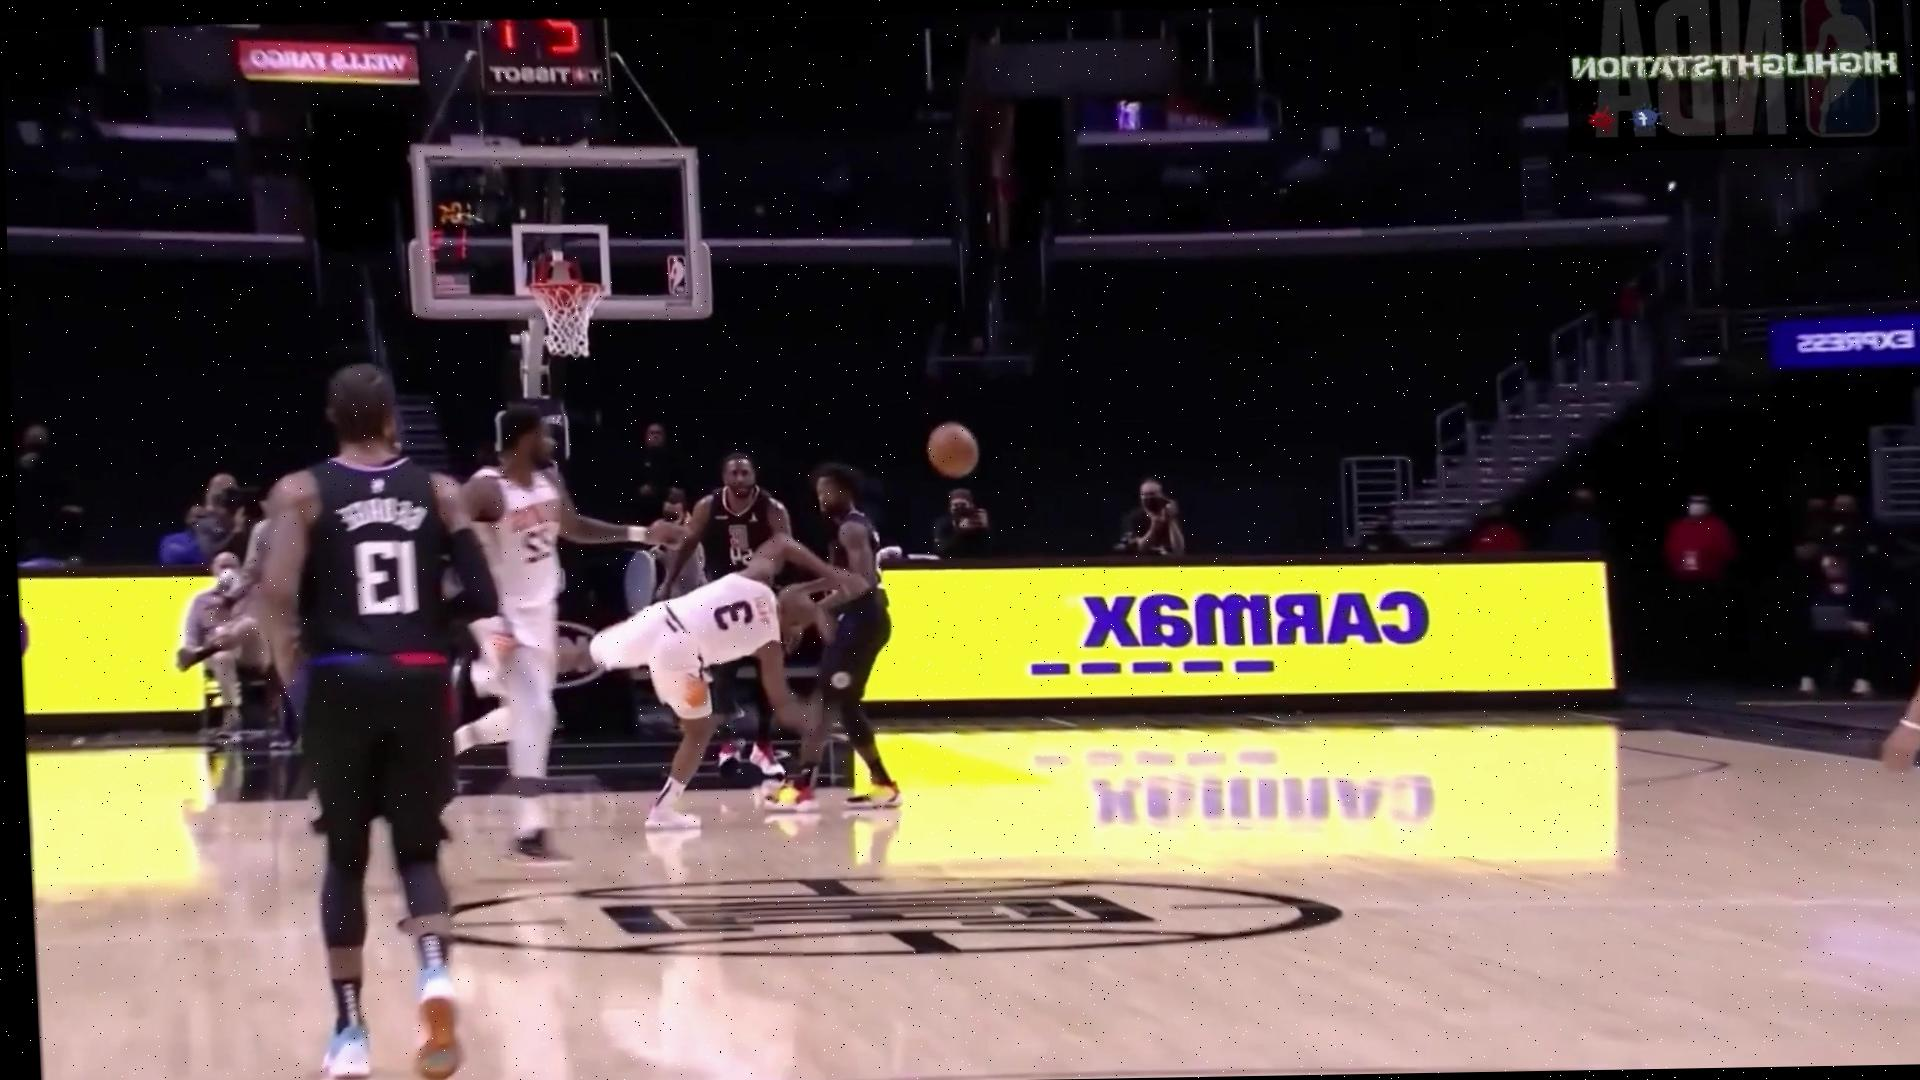foul: (575, 473, 978, 844)
